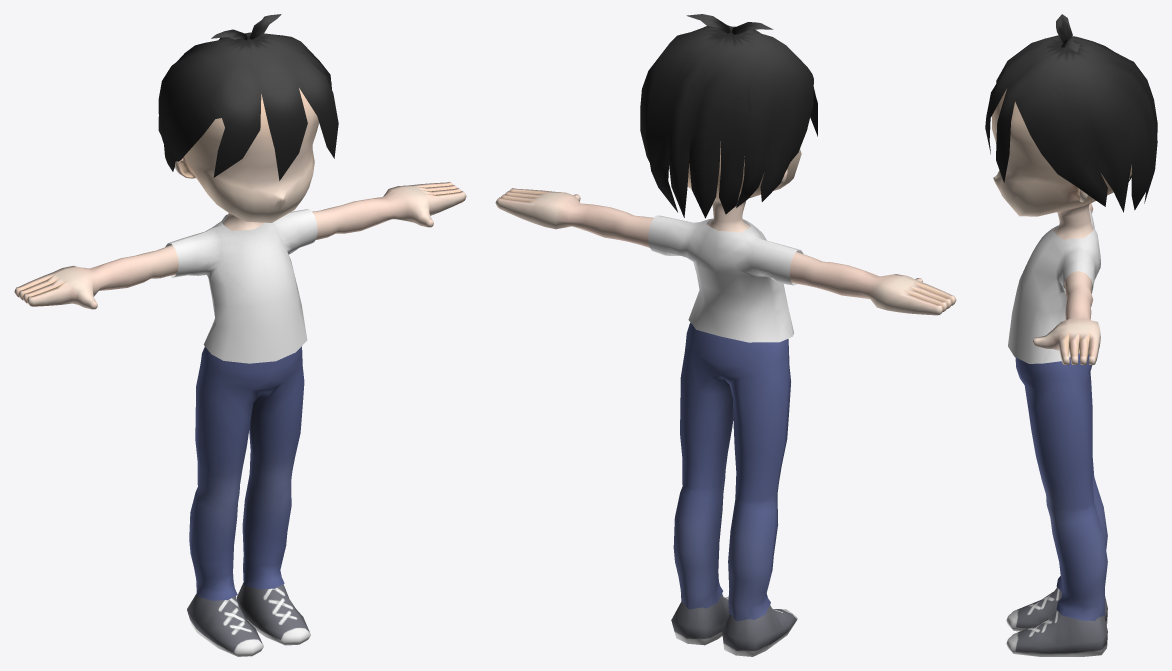
The model's file is hero.FBX.
3 renders of one model, left to right at view 1: azimuth 30°, elevation 25°; view 2: azimuth 150°, elevation 25°; view 3: azimuth 270°, elevation 25°, orthographic.
Visible parts, largest first — view 1: shirts, hair; view 2: shirts, hair; view 3: shirts, hair.
Boxes of the visible parts, left/top/right/bottom form: shirts: left=14, top=88, right=466, bottom=656; hair: left=158, top=14, right=338, bottom=180; shirts: left=495, top=141, right=956, bottom=656; hair: left=640, top=14, right=817, bottom=218; shirts: left=992, top=89, right=1131, bottom=656; hair: left=985, top=14, right=1157, bottom=212.
Size of the model in its own units: 65.73 by 86.92 by 22.37.
2 materials, 2 textured.
